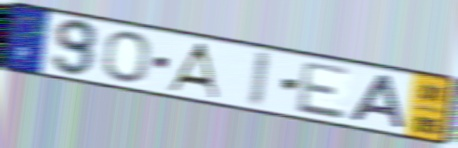9: (48, 17, 98, 79)
A: (347, 72, 408, 132), (163, 41, 221, 102)
E: (294, 59, 354, 123)
I: (247, 49, 273, 110)
O: (102, 28, 152, 85)
